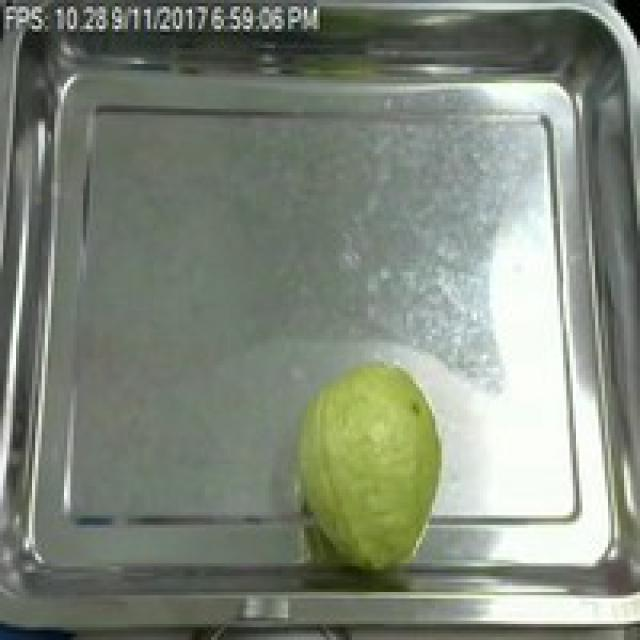Fruit: (285, 352, 454, 566)
